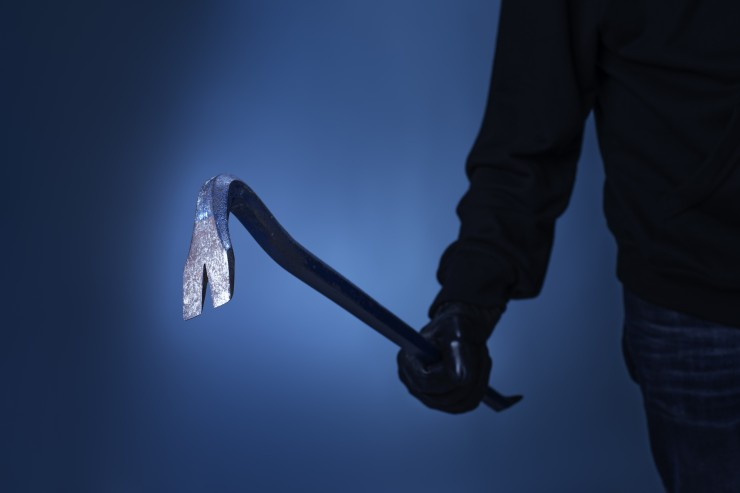crowbar: (177, 167, 530, 406)
